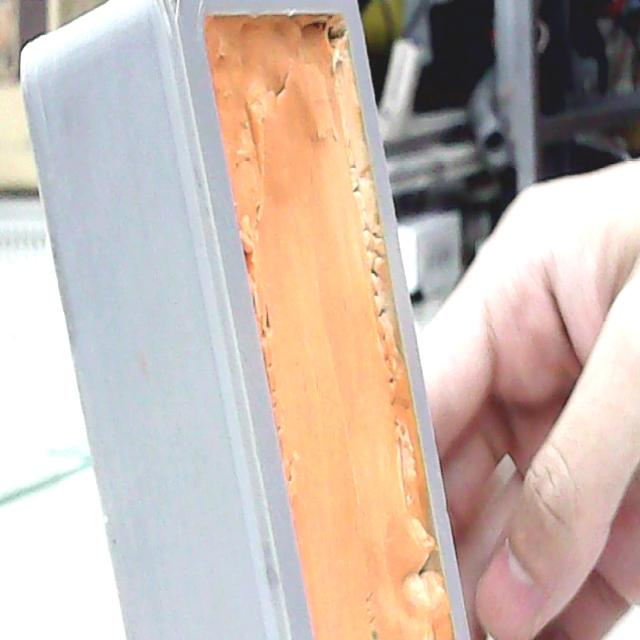block: (17, 0, 476, 640)
